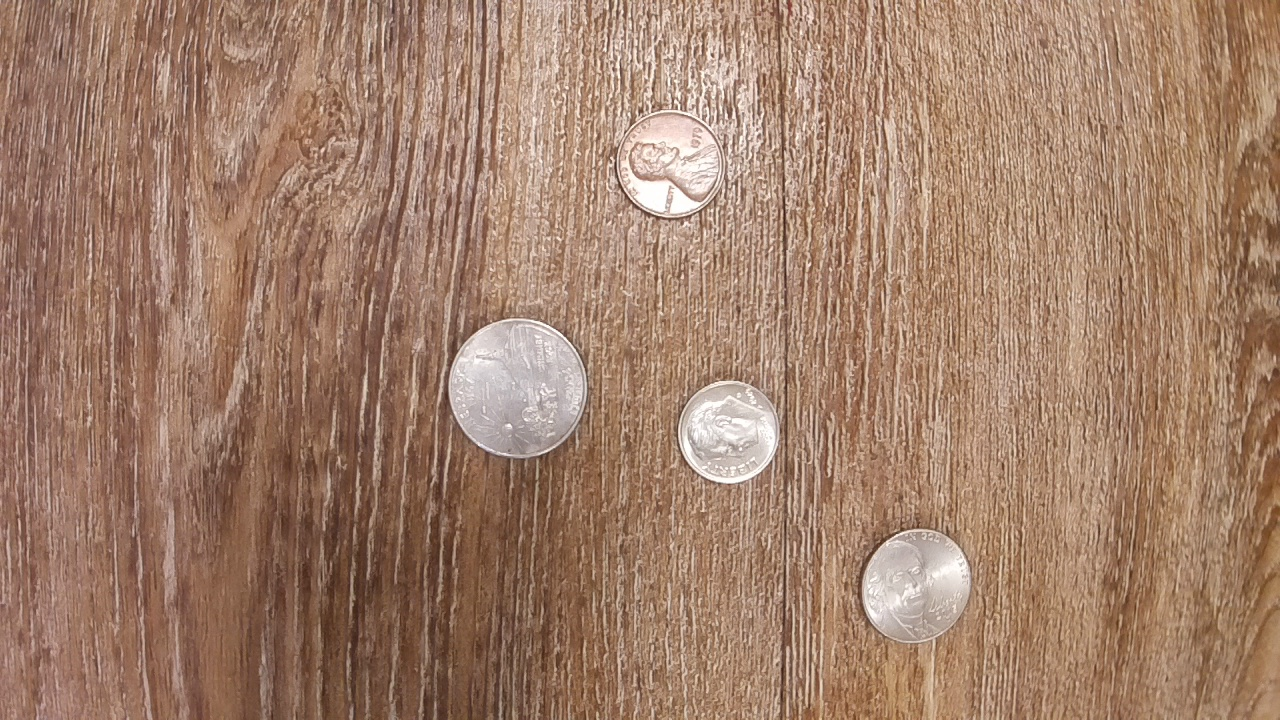dime: (674, 374, 784, 490)
nickel: (854, 521, 978, 651)
penny: (612, 103, 724, 223)
quarter: (444, 312, 590, 462)
